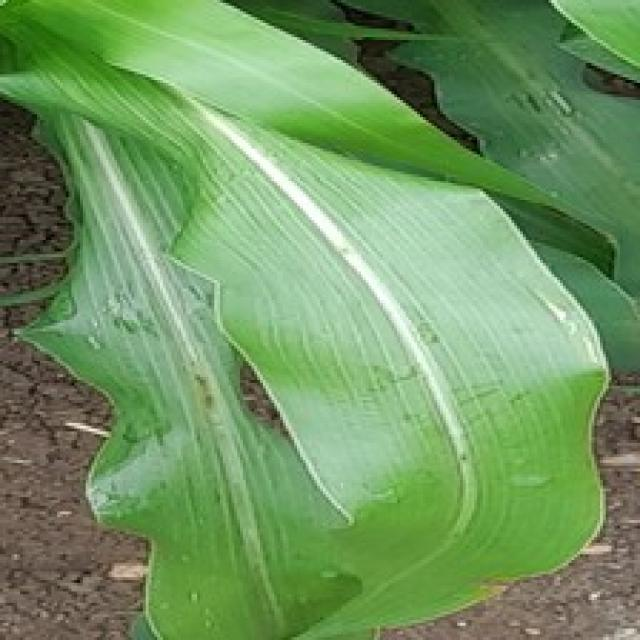Corn: (0, 0, 620, 637), (0, 0, 620, 280), (542, 0, 637, 91)
